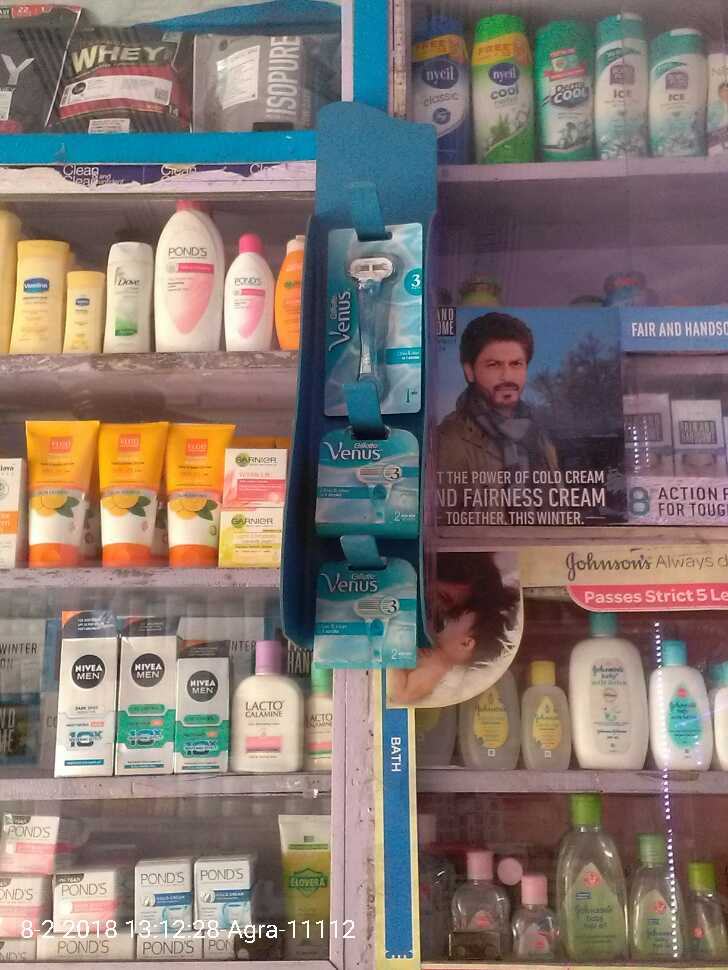venus: (316, 216, 430, 416), (311, 546, 420, 675), (313, 419, 417, 534)
